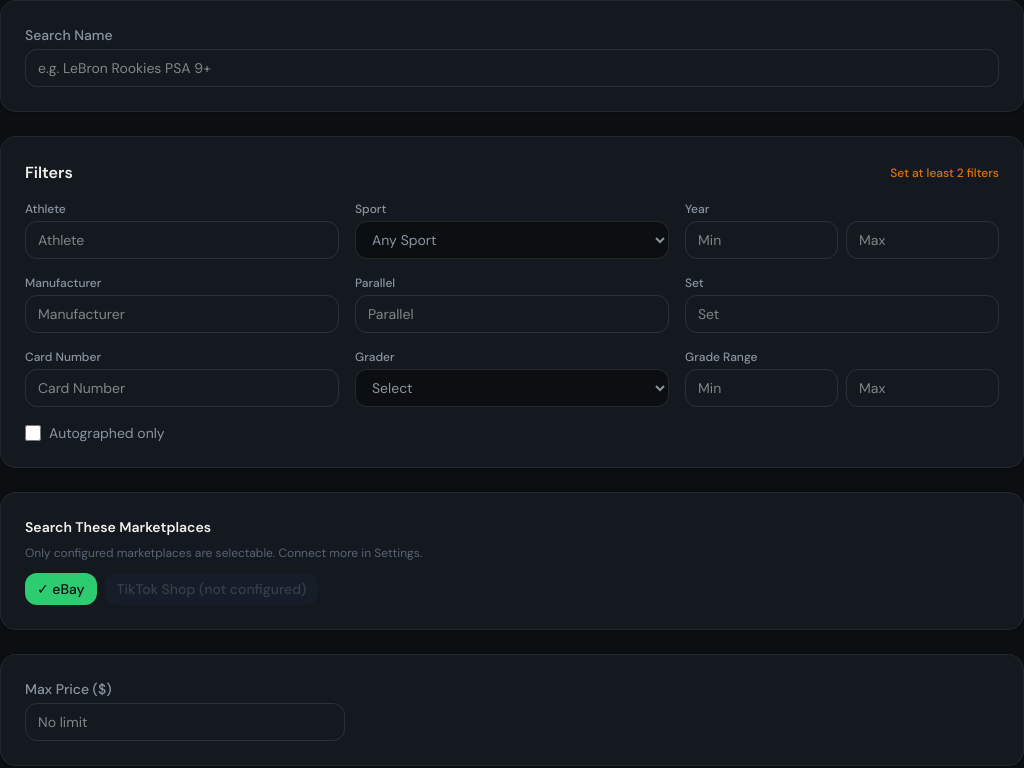
Test: SearchForm › disables submit when no marketplaces are selected
Type "Test" into the field with placeholder "e.g. LeBron Rookies PSA 9+" at {"x": 512, "y": 68}, box [25, 49, 999, 87]
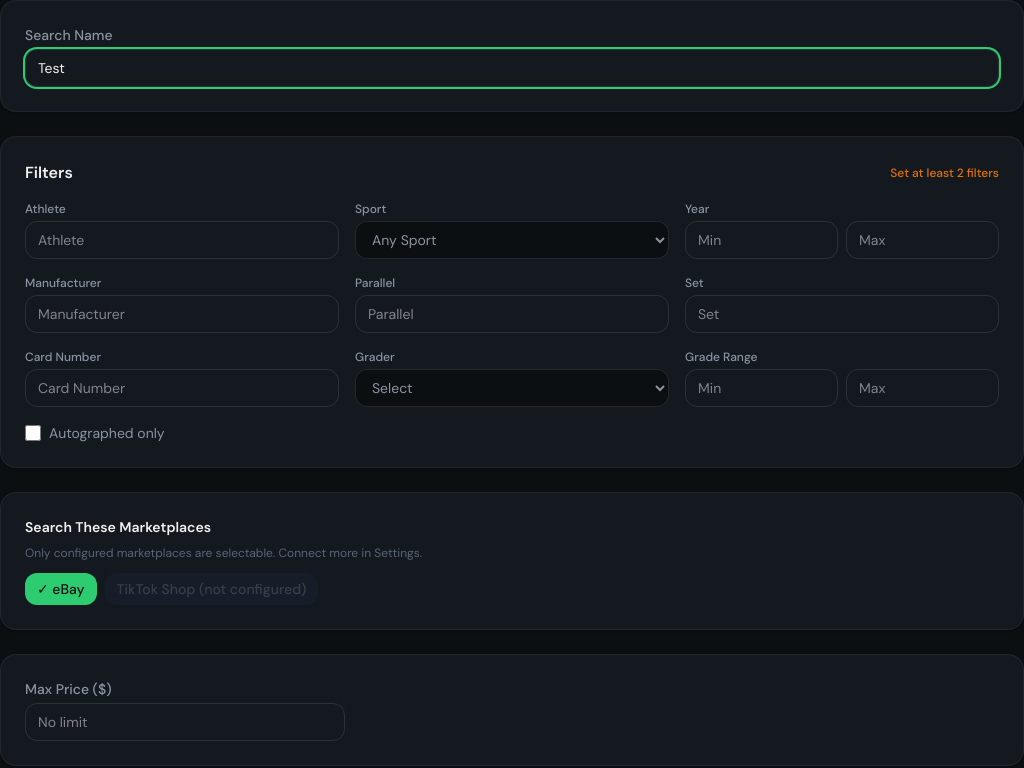
Type "LeBron" into the field with placeholder "Athlete" at {"x": 182, "y": 240}, box [25, 221, 339, 259]
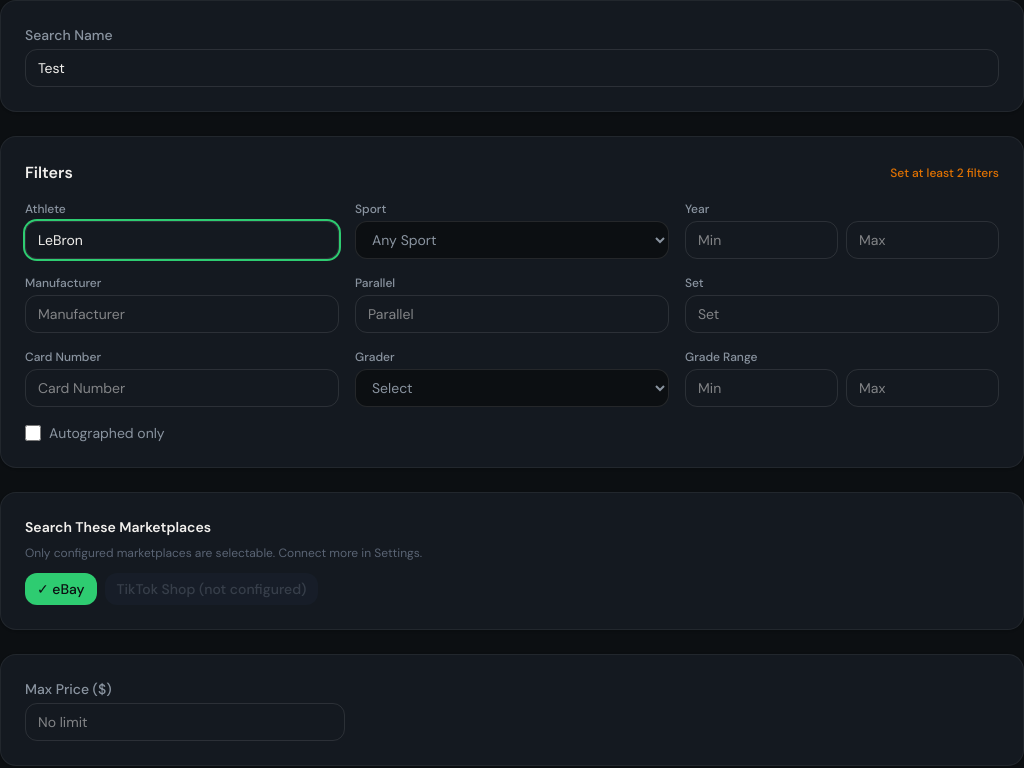
Type "Topps" into the field with placeholder "Manufacturer" at {"x": 182, "y": 314}, box [25, 295, 339, 333]
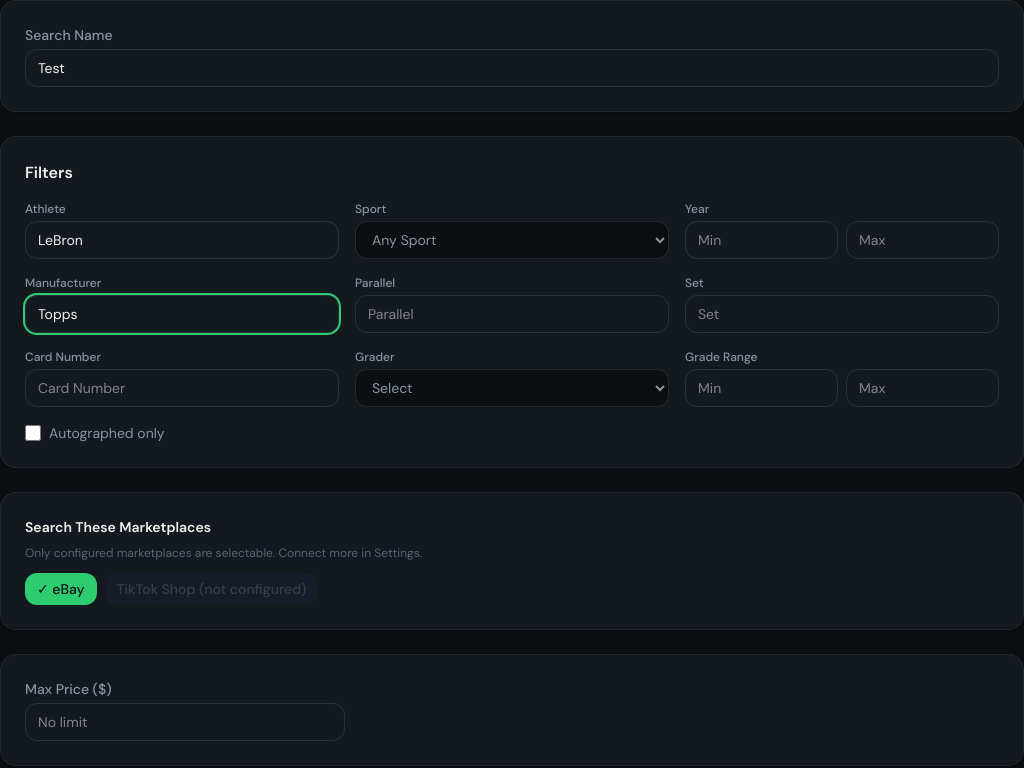
Deselect eBay
Click the button "✓ eBay" at {"x": 61, "y": 589}, box [25, 573, 97, 605]
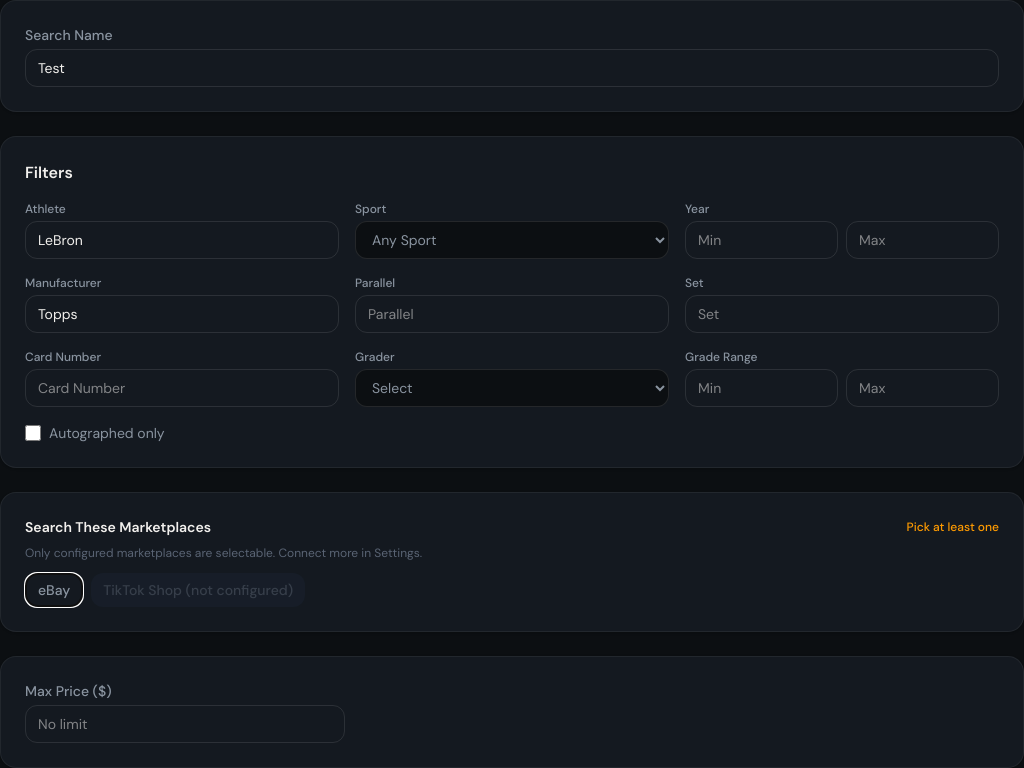
Now the text "Pick at least one" is shown, box [906, 519, 999, 535]
